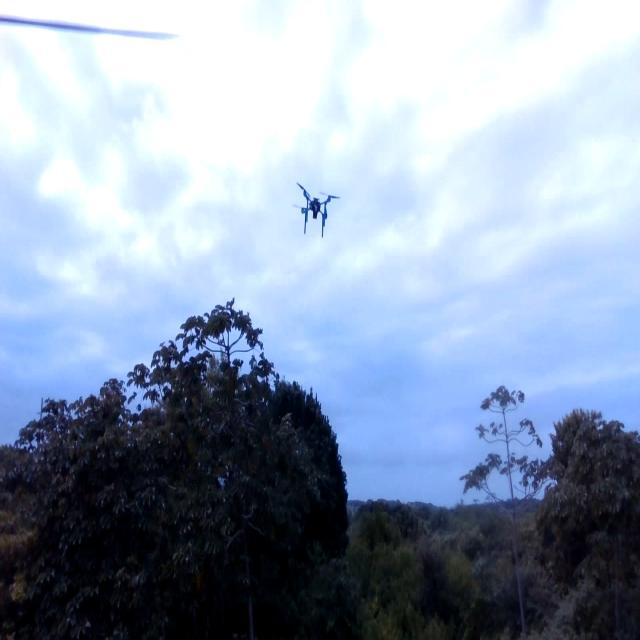-uav-: (278, 156, 349, 260)
